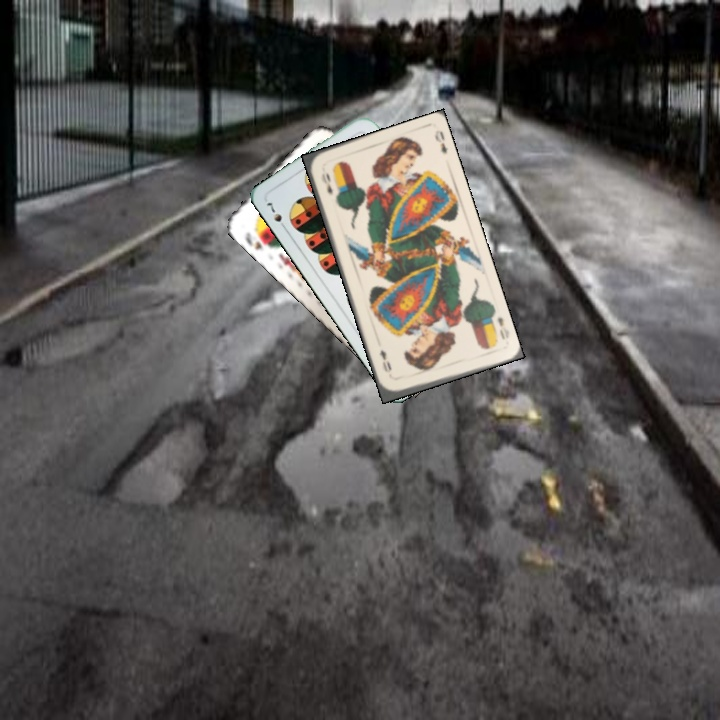EO: (493, 313, 512, 342), (317, 168, 335, 196)
S7: (262, 197, 289, 233)
SK: (241, 225, 274, 253)
